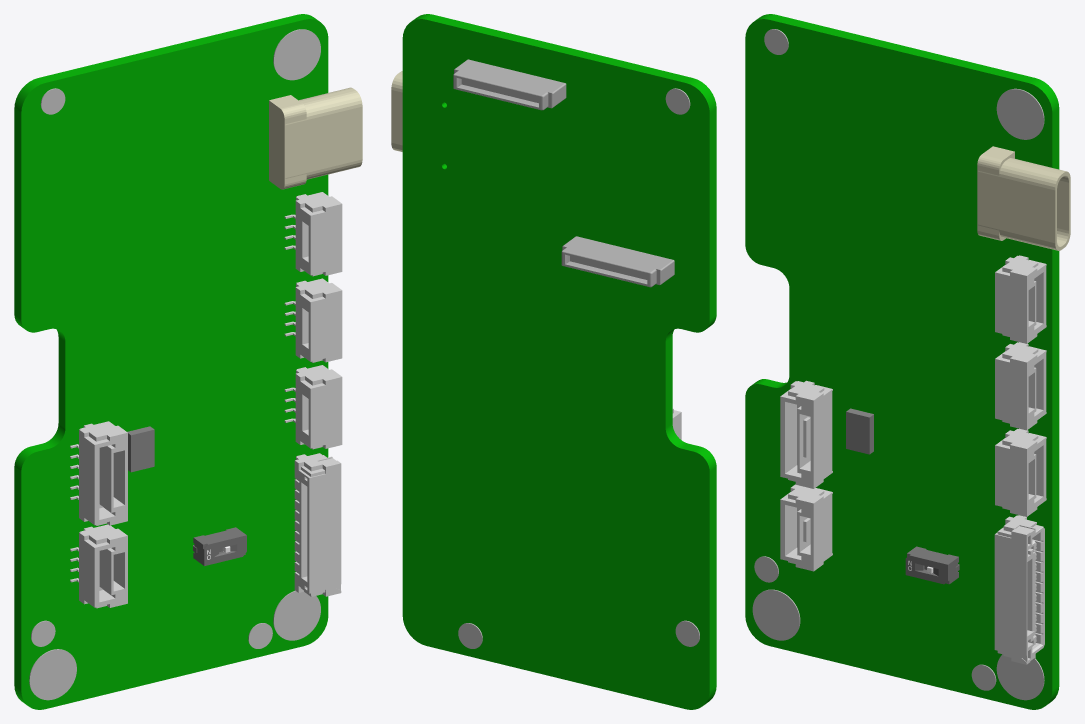
Rendered from 0823bad0-navq95v2_io.glb.
The picture shows the model from 3 angles, left to right: view 1: azimuth 30°, elevation 25°; view 2: azimuth 150°, elevation 25°; view 3: azimuth 330°, elevation 25°; orthographic projection.
Visible parts, largest first — view 1: pcb, usbc0, gnss, uart, i2c, can3, can2, can1, sw1, bmi088; view 2: pcb, b2b_navq95_0, b2b_navq95_1, usbc0; view 3: pcb, usbc0, gnss, uart, i2c, can3, can2, can1, sw1, bmi088.
Boxes of the visible parts, x1,y1,x2,y2 form: pcb: (14, 14, 328, 709); usbc0: (269, 87, 362, 189); gnss: (294, 453, 341, 596); uart: (70, 421, 127, 525); i2c: (70, 524, 127, 608); can3: (284, 192, 342, 276); can2: (284, 278, 342, 362); can1: (284, 365, 342, 449); sw1: (193, 527, 246, 565); bmi088: (127, 426, 154, 472); pcb: (402, 14, 716, 709); b2b_navq95_0: (561, 236, 674, 287); b2b_navq95_1: (453, 59, 566, 110); usbc0: (391, 71, 402, 151); pcb: (745, 14, 1059, 709); usbc0: (977, 146, 1070, 250); gnss: (994, 515, 1044, 664); uart: (780, 380, 832, 488); i2c: (780, 484, 832, 571); can3: (995, 255, 1046, 343); can2: (995, 342, 1046, 430); can1: (995, 428, 1046, 516); sw1: (905, 546, 959, 584); bmi088: (846, 408, 873, 454).
Bounding box in the file's own units: 0.0414 × 0.076 × 0.01.
